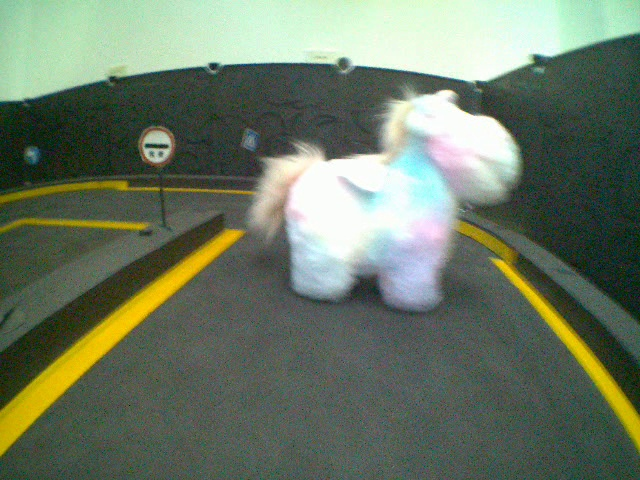unicorn: (245, 81, 529, 318)
